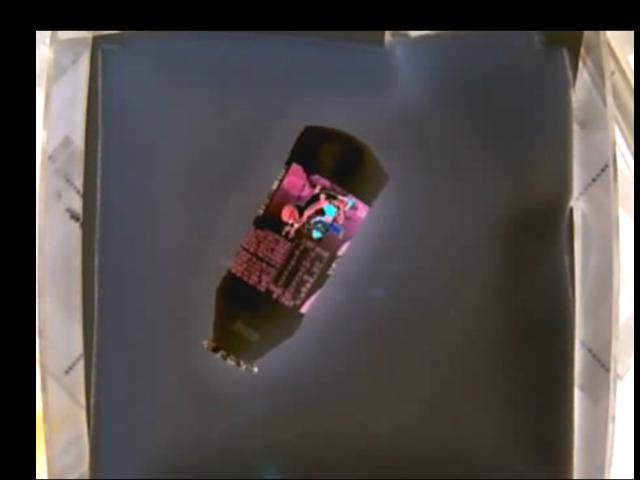Bottle: (203, 119, 390, 368)
